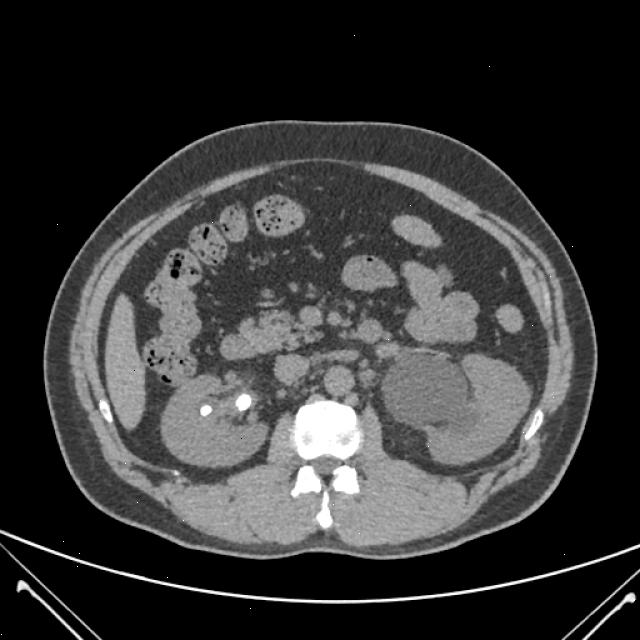kidneystone: (235, 394, 251, 411), (200, 404, 212, 417)
